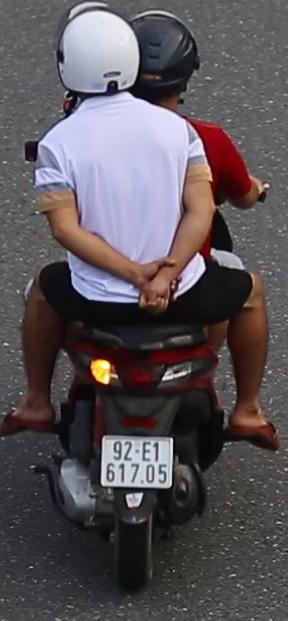LP: (98, 426, 180, 508)
helmet: (53, 1, 140, 95), (126, 0, 198, 105)
